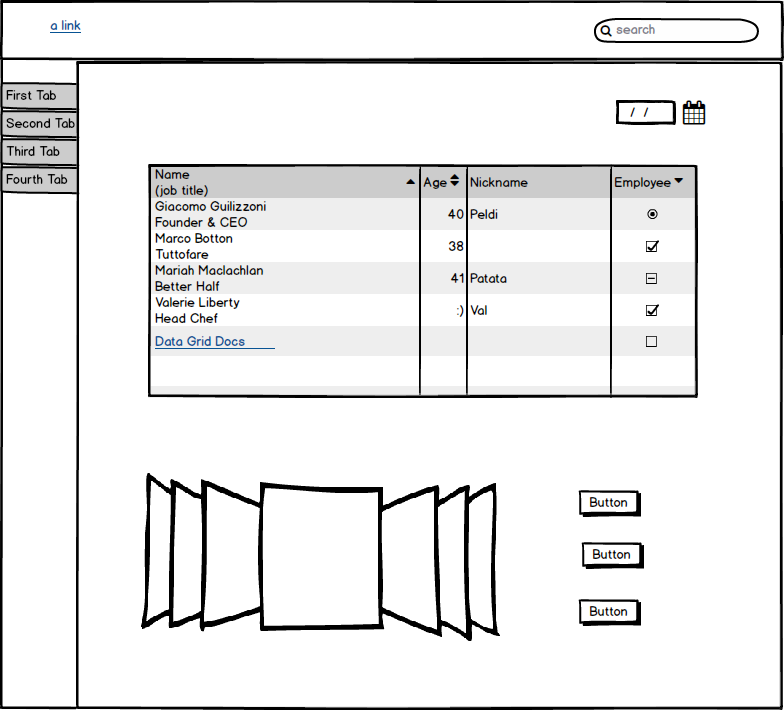button: (574, 484, 645, 522), (573, 596, 646, 632), (574, 538, 649, 569)
date_picker: (609, 95, 711, 129)
navlink: (41, 17, 90, 40)
search: (582, 15, 759, 47)
sidebar: (2, 73, 85, 201)
slideshow: (138, 466, 507, 648)
table: (142, 158, 699, 403)
